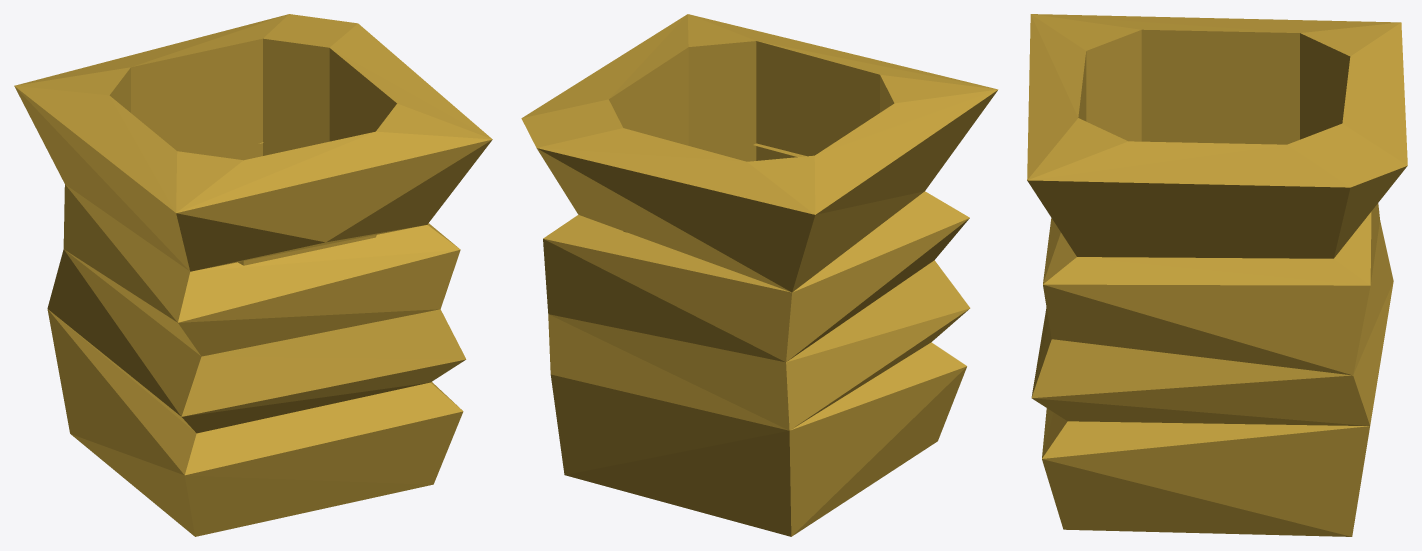
File: Balloon_Basket_03.fbx
3 renders of one model, left to right at view 1: azimuth 30°, elevation 25°; view 2: azimuth 150°, elevation 25°; view 3: azimuth 270°, elevation 25°, orthographic. The views are drawn at different scales.
Parts seen in each view (by area): view 1: Balloon_Basket_03; view 2: Balloon_Basket_03; view 3: Balloon_Basket_03.
Boxes of the visible parts, left/top/right/bottom form: Balloon_Basket_03: left=14, top=14, right=492, bottom=536; Balloon_Basket_03: left=521, top=14, right=998, bottom=536; Balloon_Basket_03: left=1027, top=14, right=1407, bottom=536.
Bounding box in the file's own units: 7.79 × 8.48 × 7.24.
